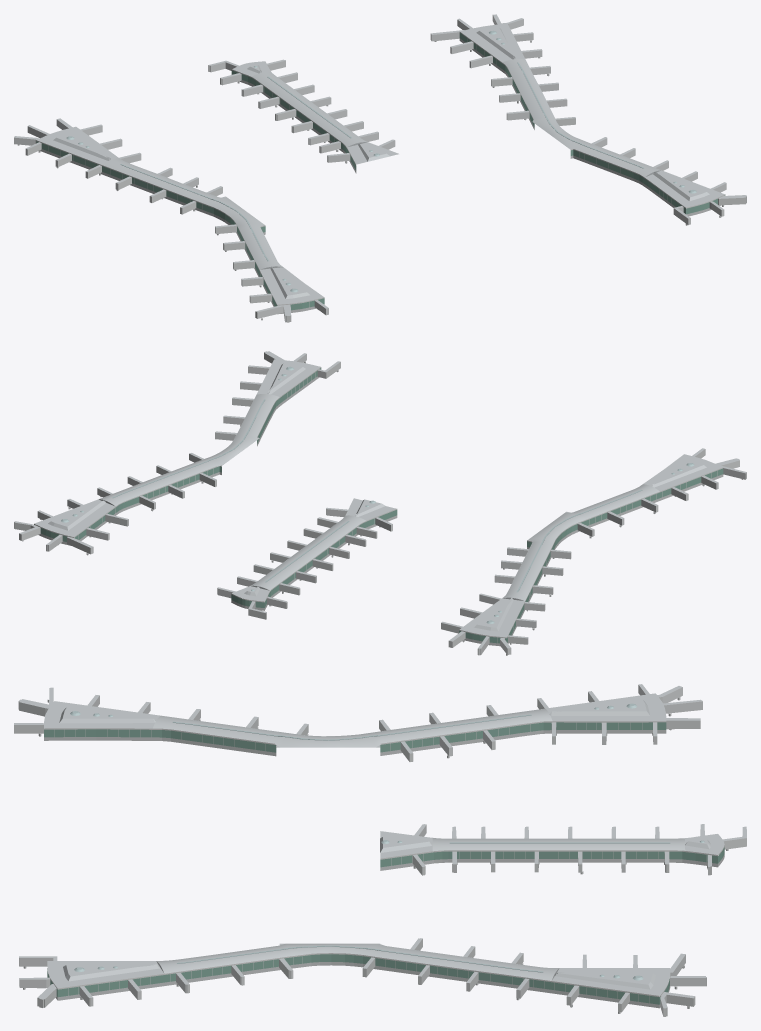
The model's file is istanbul-airport-piers.glb.
The picture shows the model from 3 angles, top to bottom: view 1: azimuth 30°, elevation 25°; view 2: azimuth 150°, elevation 25°; view 3: azimuth 270°, elevation 25°; orthographic projection. The views are drawn at different scales.
Parts seen in each view (by area): view 1: Istanbul Airport piers; view 2: Istanbul Airport piers; view 3: Istanbul Airport piers.
Boxes of the visible parts, x1,y1,x2,y2 form: Istanbul Airport piers: (14, 14, 746, 322); Istanbul Airport piers: (14, 351, 746, 655); Istanbul Airport piers: (14, 684, 746, 1016).
Size of the model in its own units: 1265 by 30.6 by 1209.
